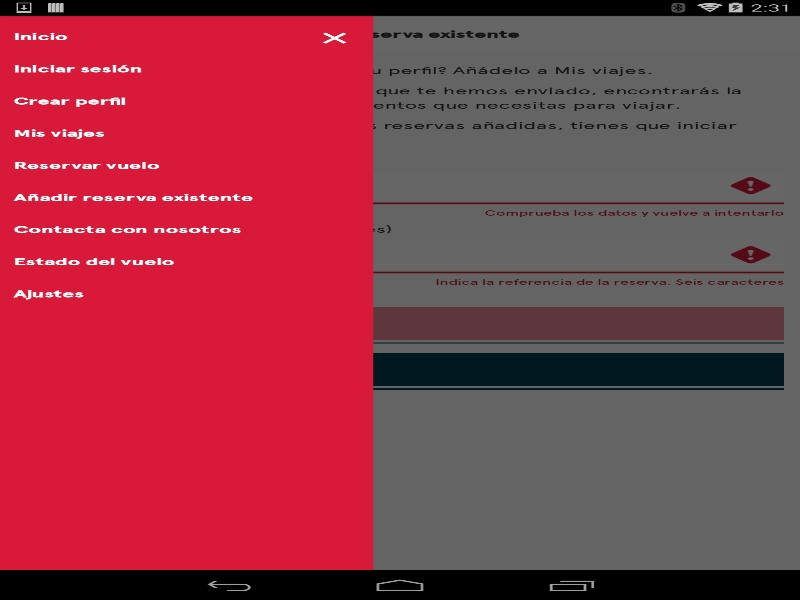Input: (16, 170, 724, 200), (16, 239, 724, 269)
